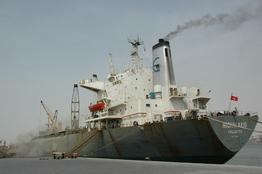Cargoship: (19, 34, 262, 159)
